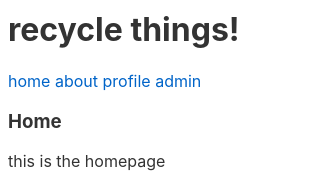
Test: App.svelte › Routing: › GIVEN: The user is not logged in, › WHEN: Nav bar links lead to non-protected routes, › THEN: the user clicks about and is taken to about-page
The image size is (320, 188).
Click the link "about" at (76, 81), box [55,71,98,91]
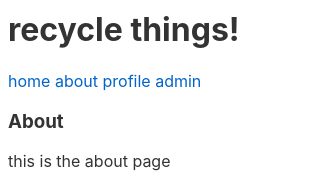
expect the element with test id "about-page" is shown: met, box [8,110,170,171]
